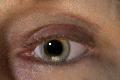eye: (39, 39, 71, 63)
